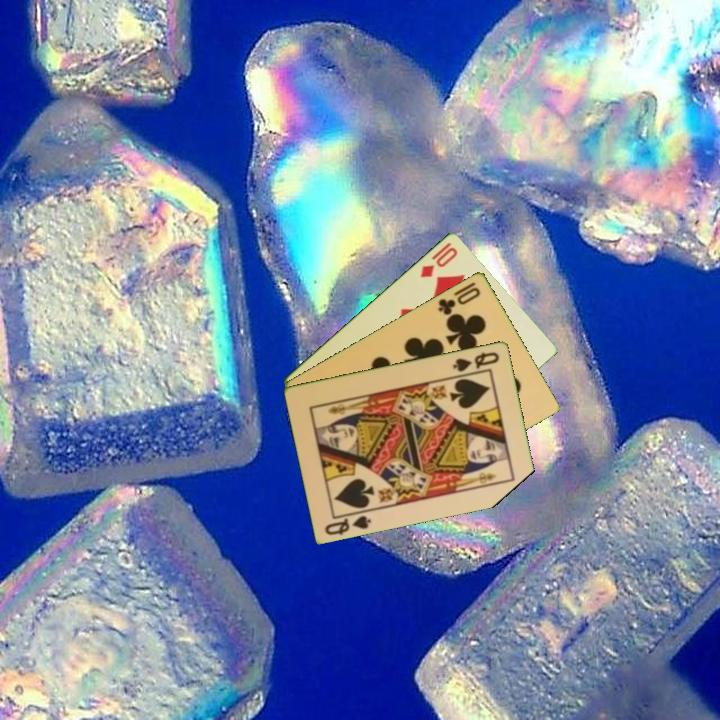10c: (435, 283, 483, 318)
10d: (417, 243, 461, 280)
Qs: (449, 348, 502, 374), (321, 512, 374, 538)
